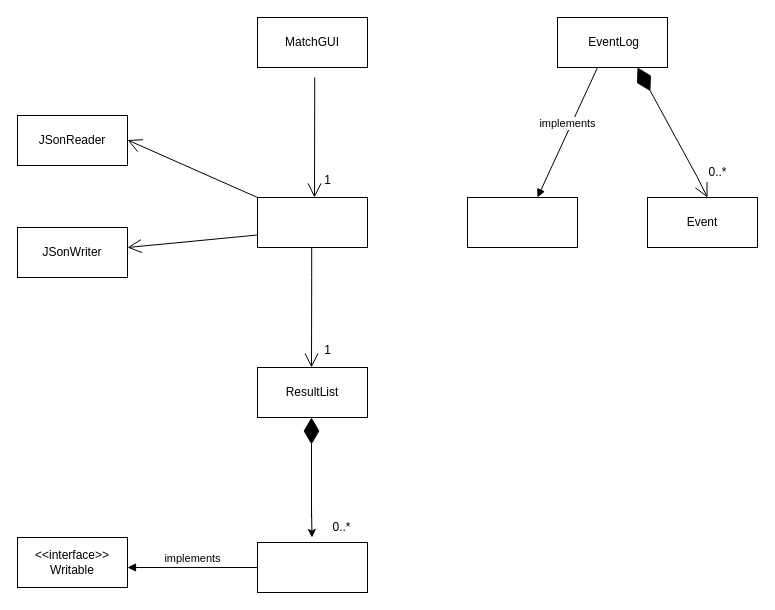
Image size: 775x610. Some labels were removed from this diagram. Here are the shapes that lost their labels. From the top down, the centre of each, then its label:
At (x=312, y=222): "MatchLog".
At (x=522, y=222): "<<interface>> Iterable<Event>".
At (x=312, y=567): "Result".
